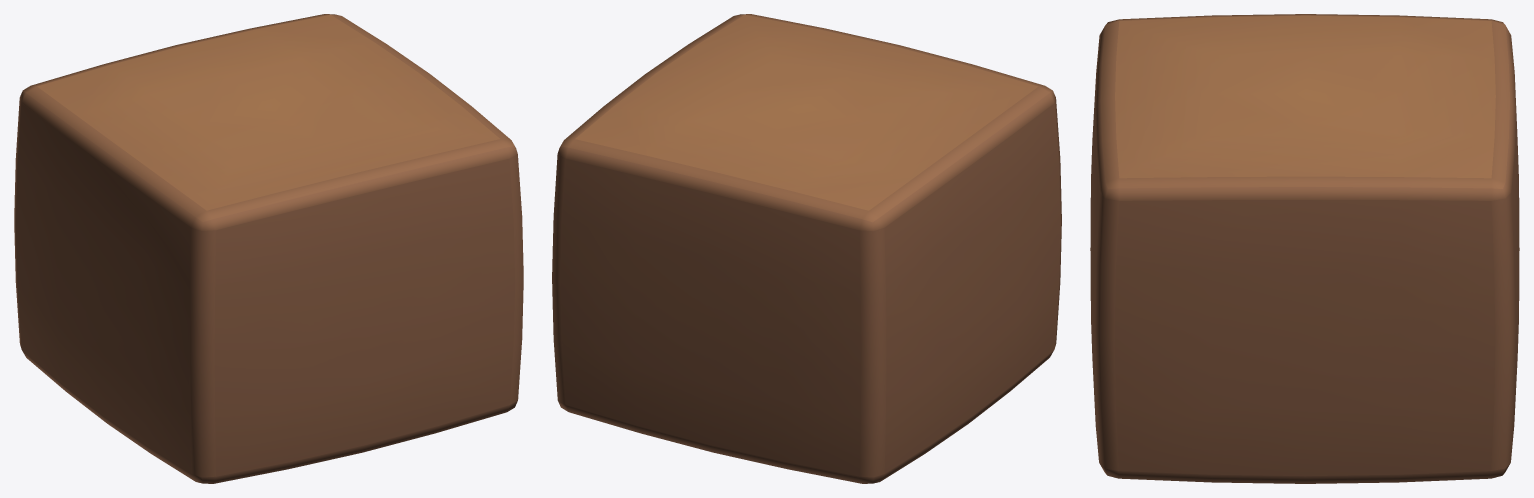
Rendered from ground_cubes5.fbx.
3 views of the same model, side by side, from view 1: azimuth 30°, elevation 25°; view 2: azimuth 150°, elevation 25°; view 3: azimuth 270°, elevation 25° (orthographic). The views are drawn at different scales.
Parts seen in each view (by area): view 1: ground_cubes5; view 2: ground_cubes5; view 3: ground_cubes5.
Boxes of the visible parts, left/top/right/bottom form: ground_cubes5: left=14, top=14, right=523, bottom=483; ground_cubes5: left=552, top=14, right=1061, bottom=483; ground_cubes5: left=1090, top=14, right=1519, bottom=483.
Size of the model in its own units: 109 by 86.94 by 109.
1 material, 1 textured.
